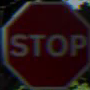Stop: (2, 2, 86, 85)
